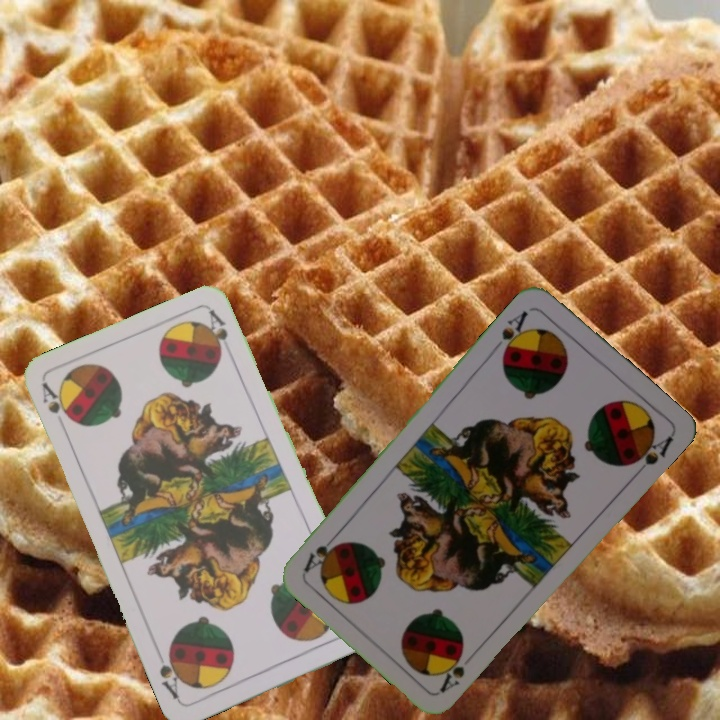SA: (489, 306, 532, 360), (38, 379, 76, 426), (435, 644, 468, 695)
